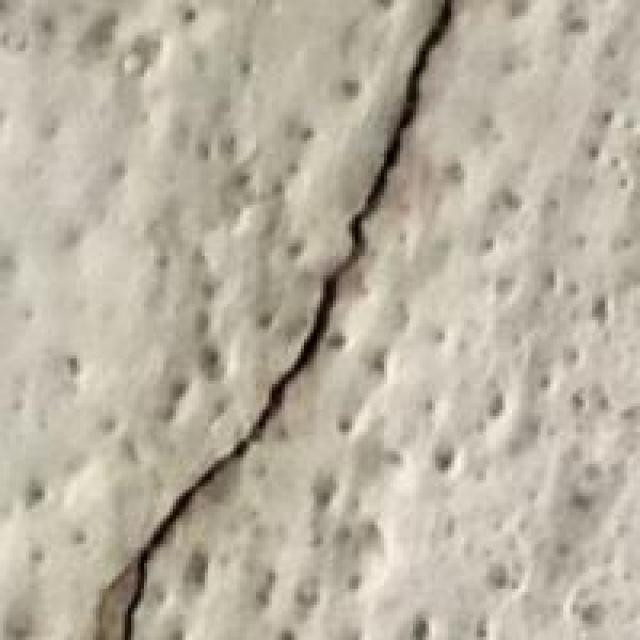crack: (102, 0, 470, 637)
